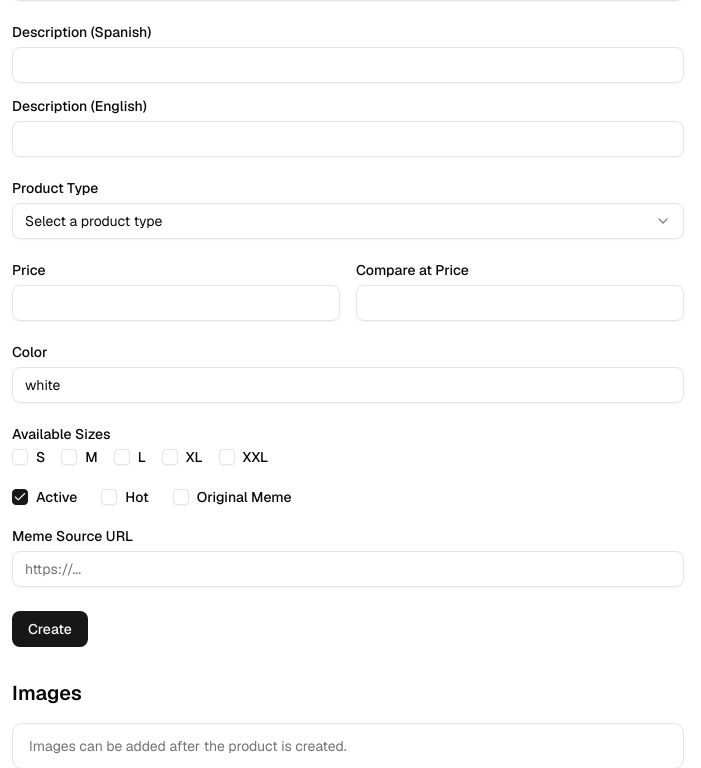
Test: ProductForm › create mode › should validate required: title.es shows error when empty on submit
(page scrolled)
Step 1. Click the button "Create" → x=50, y=629, box left=12, top=611, right=88, bottom=647
(page scrolled)
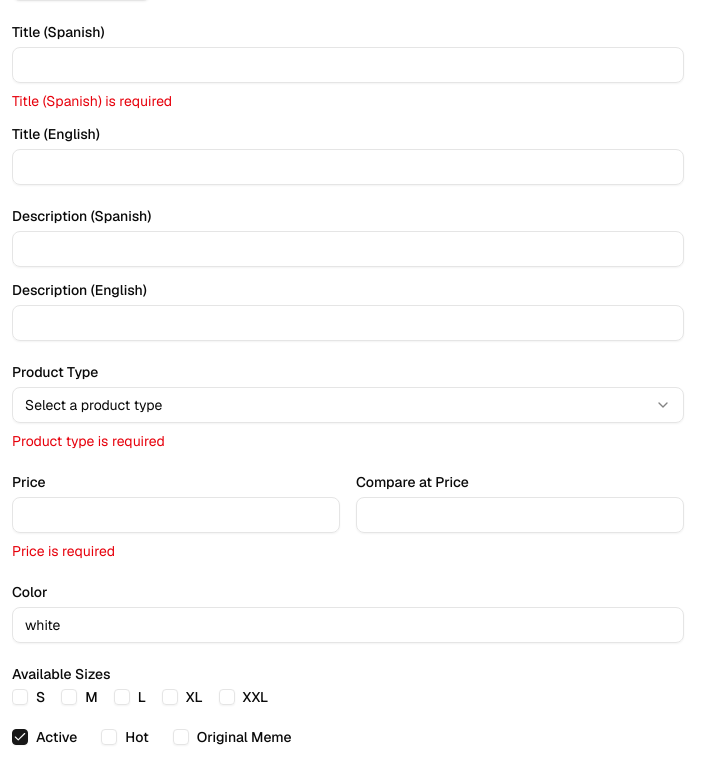
Expected: the text "Title (Spanish) is required" is shown, left=12, top=92, right=172, bottom=110
